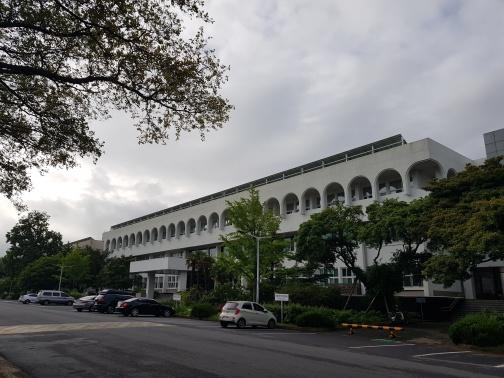Main Building of University: (83, 128, 482, 296), (278, 168, 406, 207), (103, 211, 220, 251)
